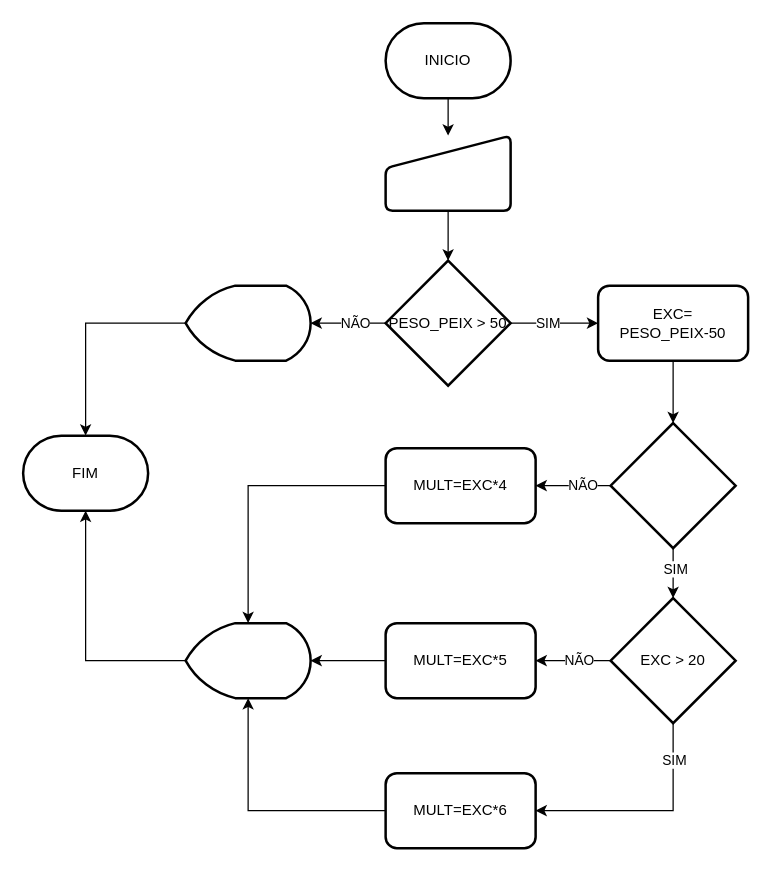
Image size: 770x870. Some labels were removed from this diagram. The box of each missing label's shape, as (x1, y1, x2, y2) in pixels:
EXC > 10: (609, 421, 736, 549)
MULT: (184, 621, 311, 699)
NÃO TEM MULTA: (184, 284, 311, 361)
PESO_PEIX: (384, 134, 511, 211)
